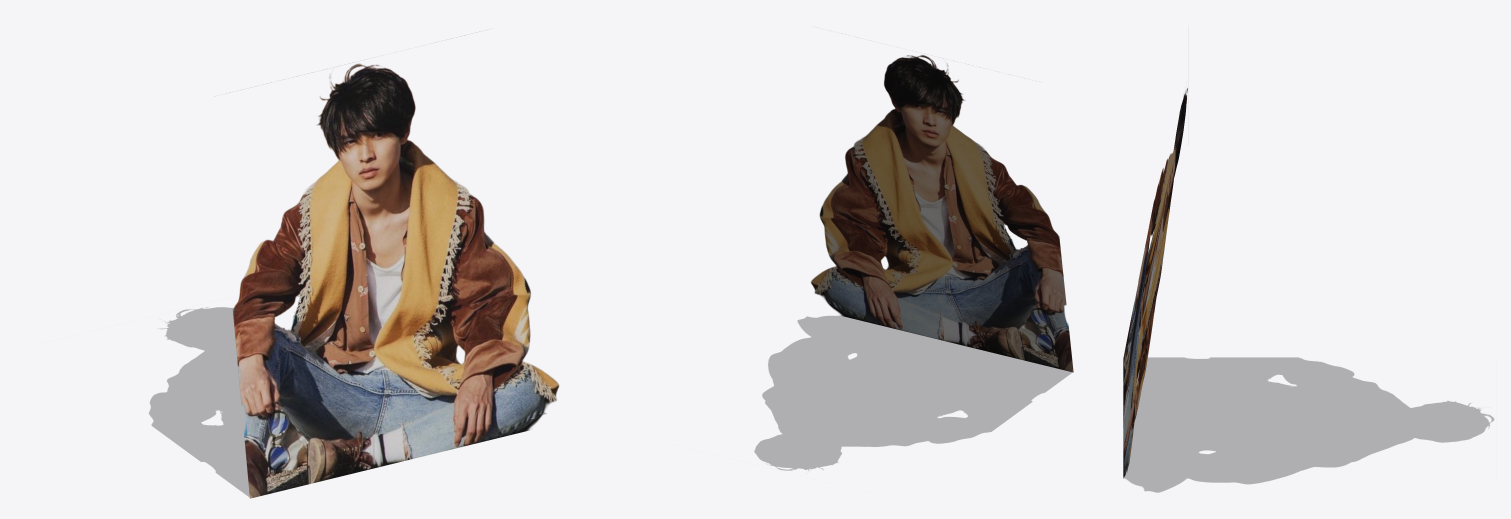
3 renders of one model, left to right at view 1: azimuth 30°, elevation 25°; view 2: azimuth 150°, elevation 25°; view 3: azimuth 270°, elevation 25°, orthographic. The views are drawn at different scales.
Visible parts, largest first — view 1: 平面.001, 平面; view 2: 平面.001, 平面; view 3: 平面, 平面.001.
Part boxes in pixels (x1,y1,x2,y2): 平面.001: [233, 63, 559, 498]; 平面: [149, 307, 546, 496]; 平面.001: [811, 55, 1073, 372]; 平面: [754, 315, 1072, 470]; 平面: [1124, 357, 1493, 492]; 平面.001: [1123, 88, 1187, 478].
Size of the model in its own units: 1 by 0.9848 by 1.
2 materials, 2 textured.
